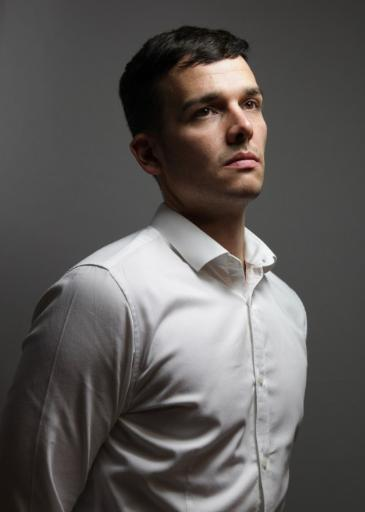left_eye: (241, 100, 260, 113)
left_lip_corner: (256, 155, 264, 169)
right_eye: (188, 107, 221, 125)
right_lip_corner: (220, 160, 230, 175)
